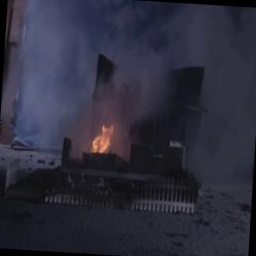fire: (83, 116, 129, 169)
smoke: (18, 0, 254, 124)
